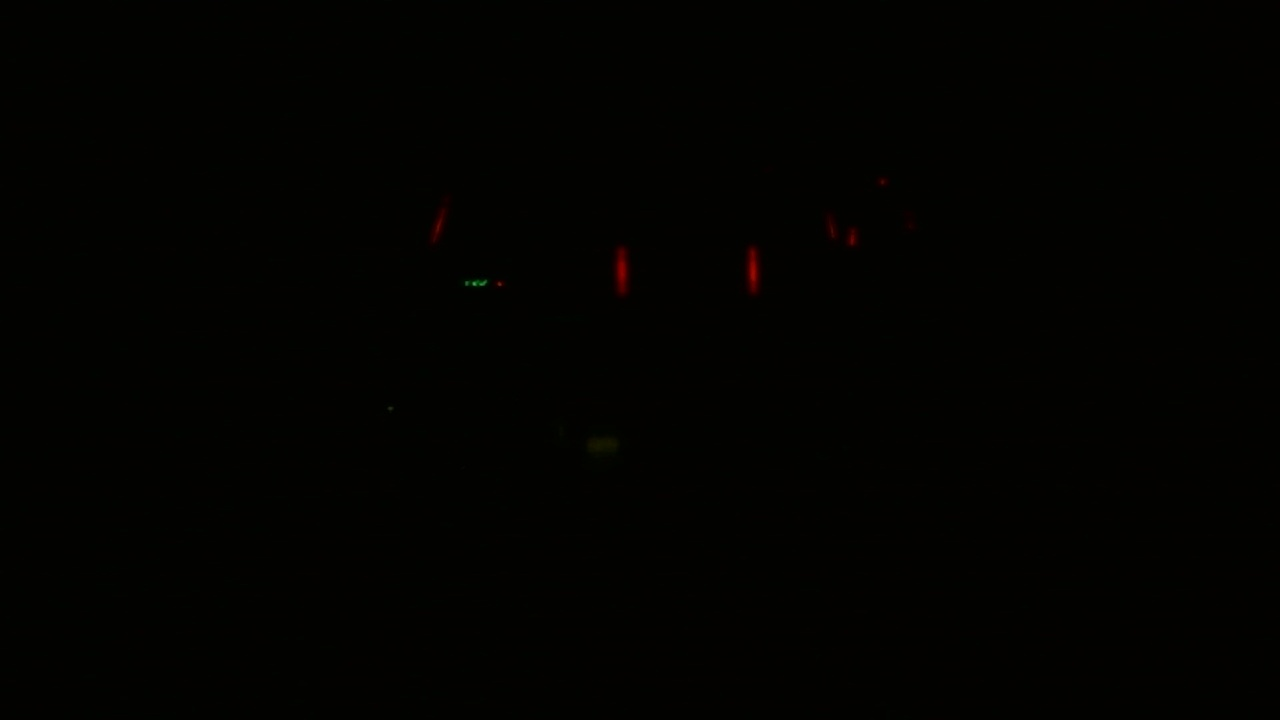pair1: (612, 244, 763, 295)
